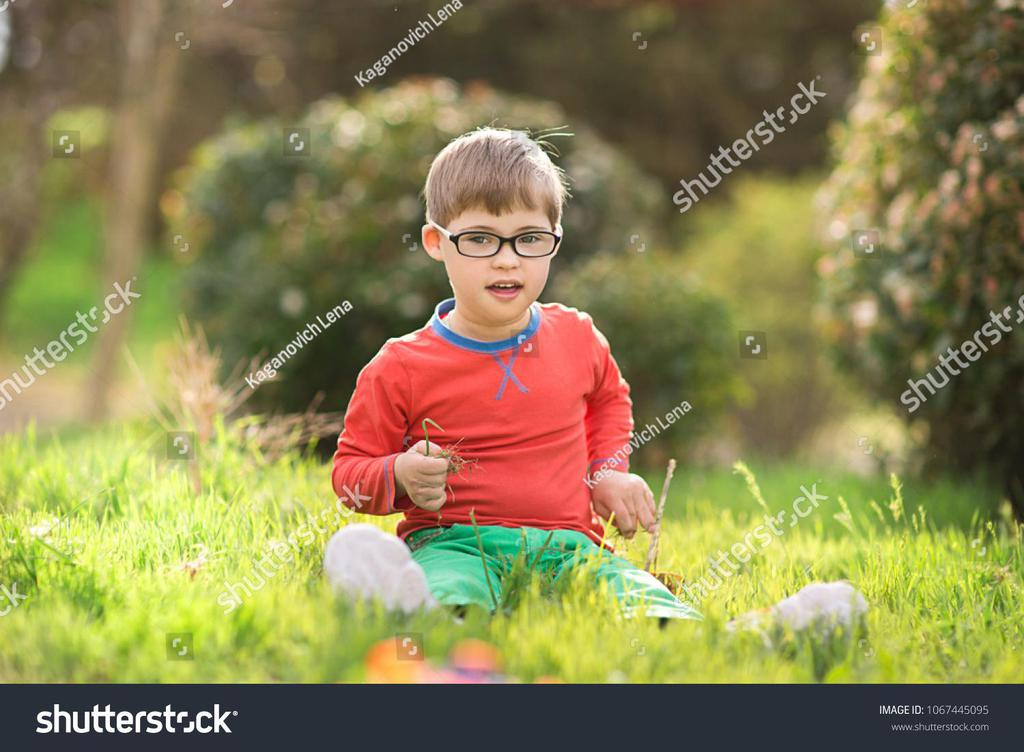child: (323, 122, 869, 662)
